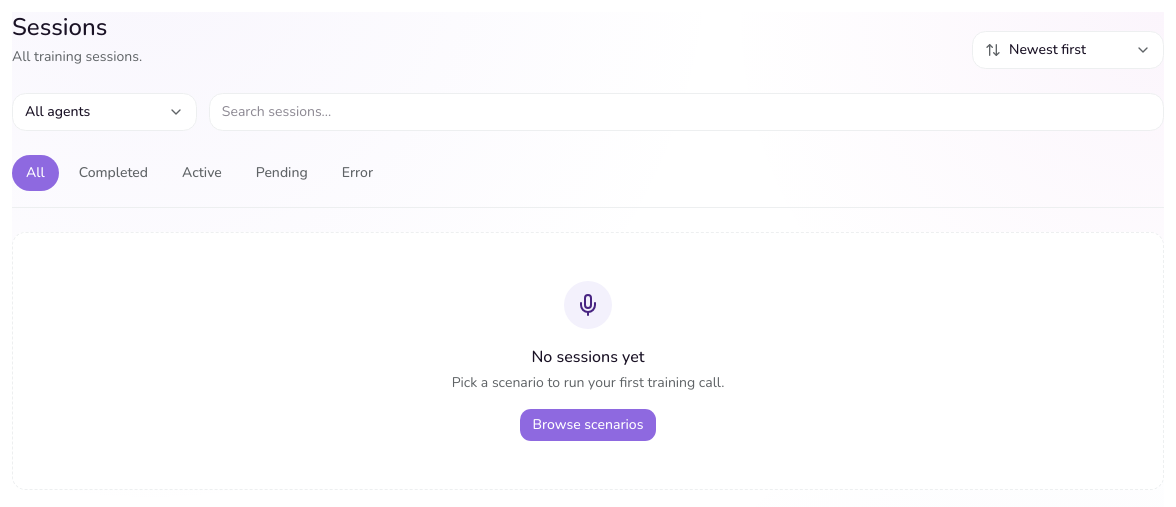
Scenario: Sessions filters › sends admin status/search filters and renders filtered empty state
Type "billing" into the field labelled "Search sessions" at (686, 112), box [209,93,1164,131]
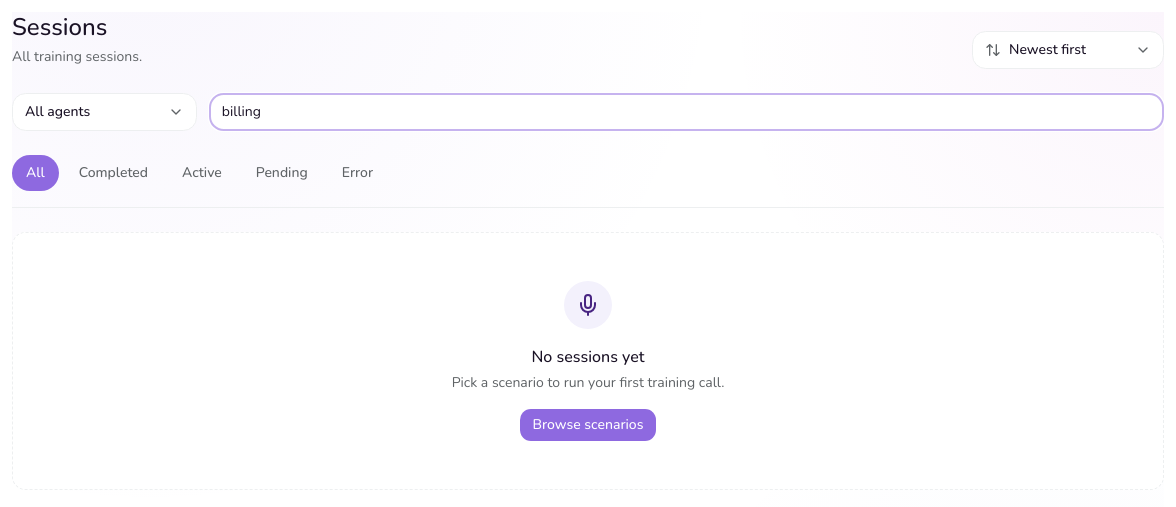
Click the tab "Completed" at (113, 173), box [65,155,162,191]
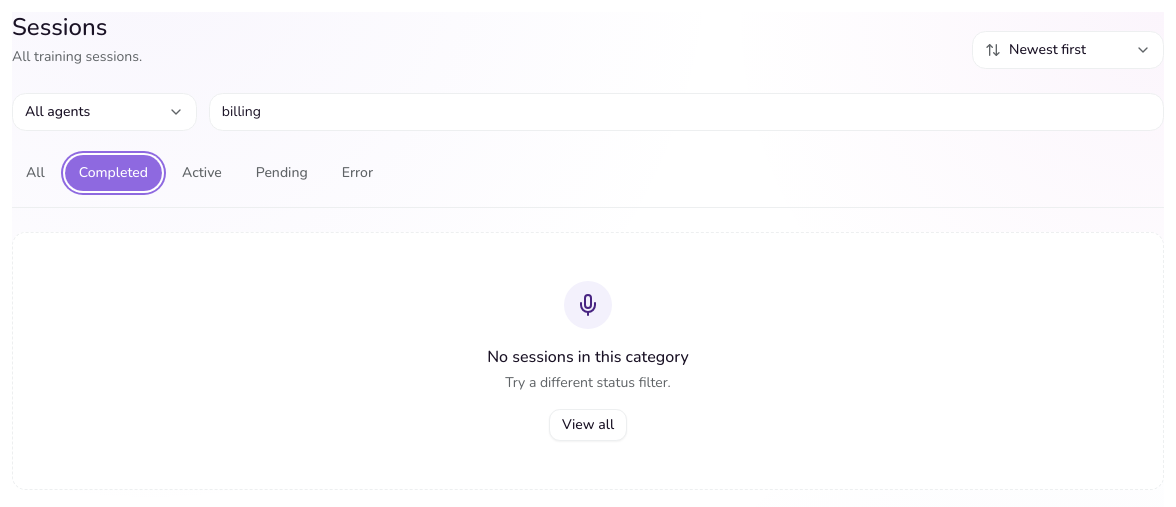
Expected: the heading "No sessions in this category" is shown, [487,345,689,369]
